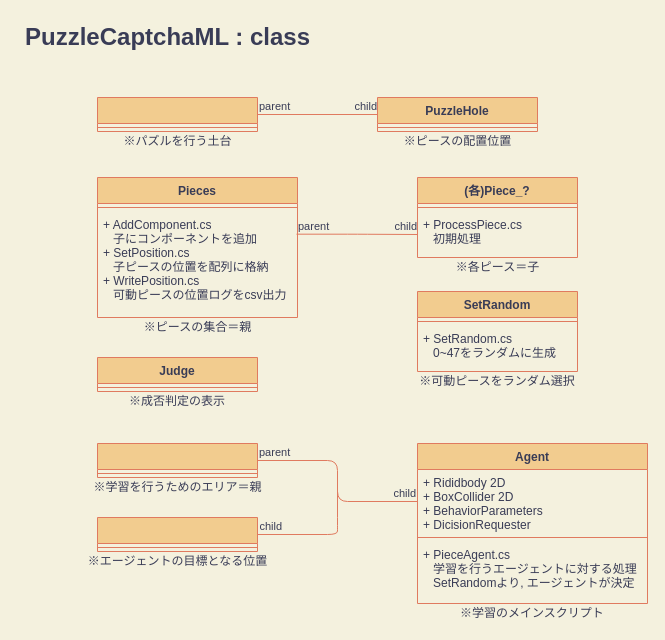
Some shapes in this 665 by 640 pixel diagram are drawn without their labels. Here are the shapes that lost their labels. From the top down, the centre of each, then its label:
At [177,114]: "PuzzleBack".
At [177,460]: "TrainingArea".
At [177,534]: "Target".
